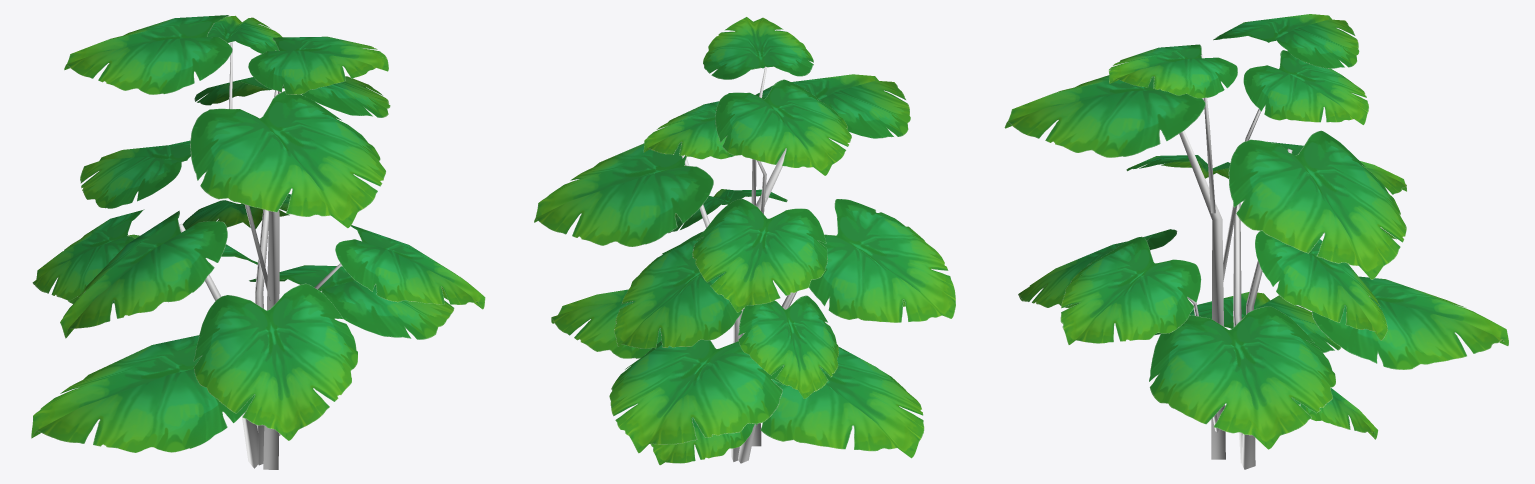
File: rotus.fbx
3 views of the same model, side by side, from view 1: azimuth 30°, elevation 25°; view 2: azimuth 150°, elevation 25°; view 3: azimuth 270°, elevation 25° (orthographic). The views are drawn at different scales.
Visible parts, largest first — view 1: Plane002, Line005; view 2: Plane002, Line005; view 3: Plane002, Line005.
Part boxes in pixels (x1,y1,x2,y2): Plane002: (31,15,485,452); Line005: (179,42,341,469); Plane002: (534,17,955,465); Line005: (681,66,796,463); Plane002: (1004,14,1508,449); Line005: (1156,54,1292,469).
Size of the model in its own units: 3.87 by 4.23 by 3.71.
